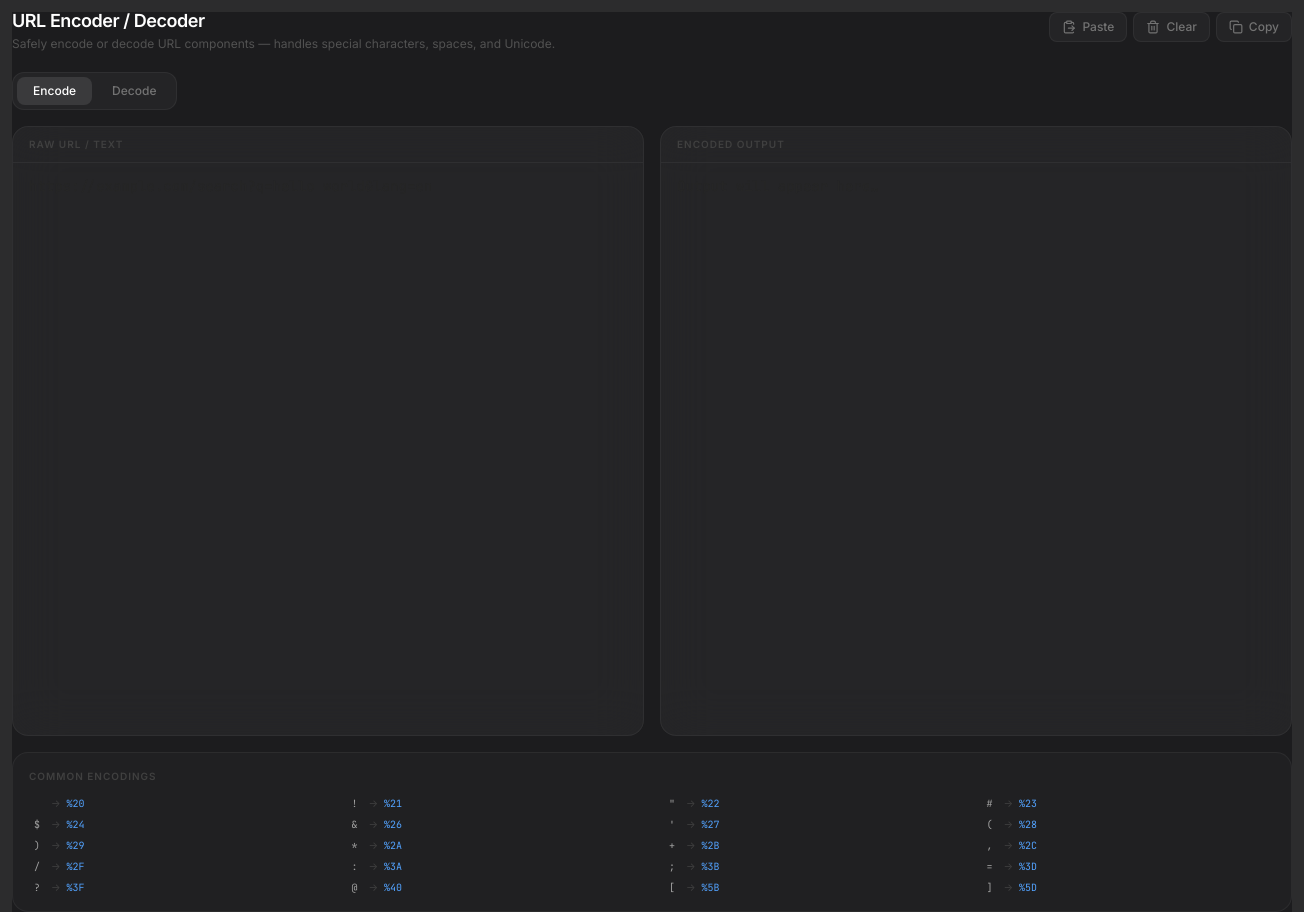
Scenario: UrlEncoder › switches to decode mode
Click the button "decode": (134,91) [96,77,172,105]
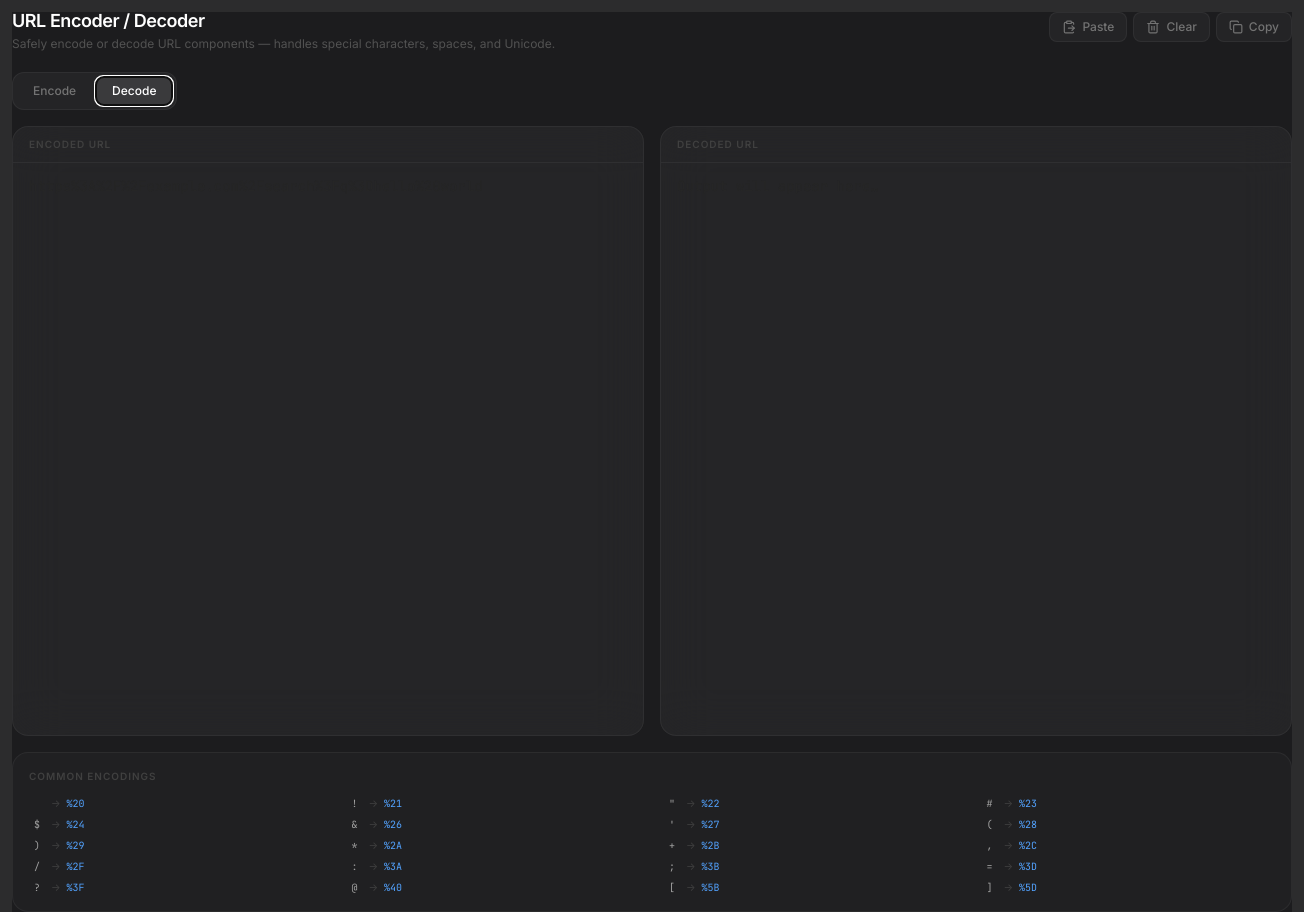
Check: the text "Encoded URL" is shown, box [29,137,111,152]
Check: the text "Decoded URL" is shown, box [677,137,759,152]
